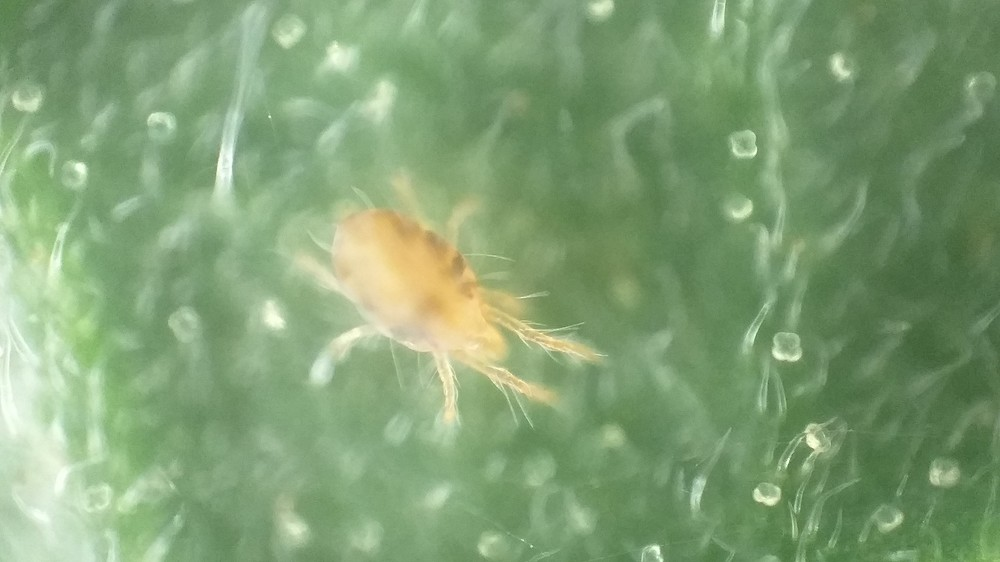Aracnido Rojo: (265, 168, 612, 450)
